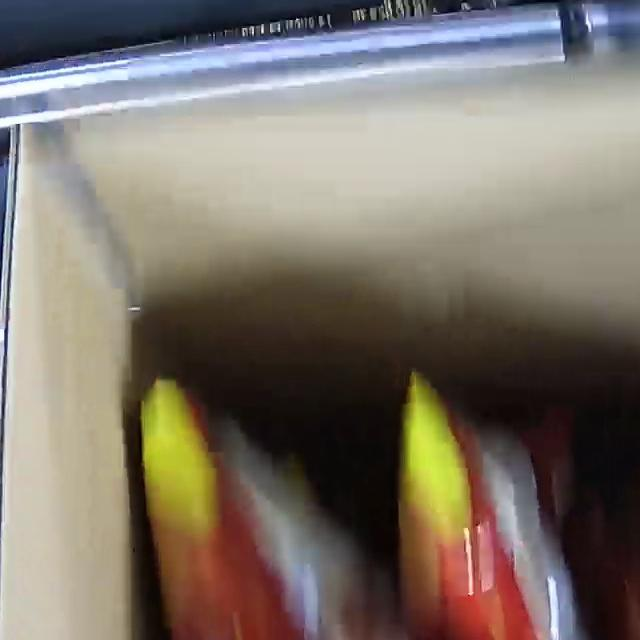masala: (122, 297, 640, 640)
